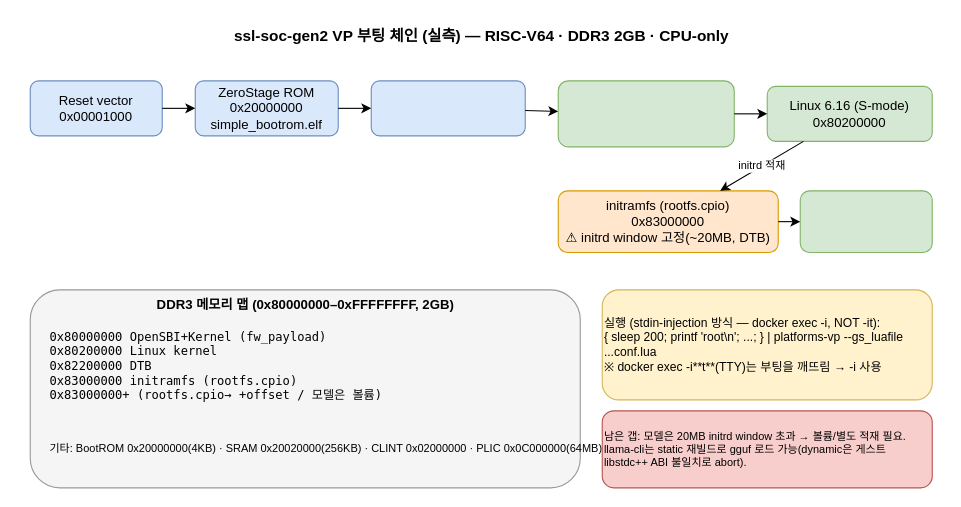
Some shapes in this 961 by 507 pixel diagram are drawn without their labels. The centre of each missing label's shape, as x and y in pixels:
"/sbin/init → getty login: ttySIF0 115200 (root, 무패스워드)" belongs at point (865, 221).
"BootRAM/SRAM 0x20020000 (256KB) simple_jump_boot.elf" belongs at point (447, 108).
"OpenSBI v1.5 (M-mode) 0x80000000 fw_payload.bin 27M (+ DTB @0x82200000)" belongs at point (645, 113).
